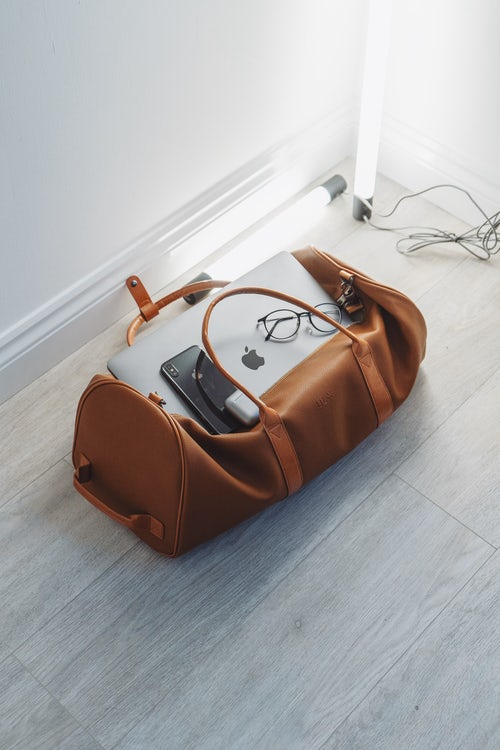phone: (155, 349, 260, 439)
